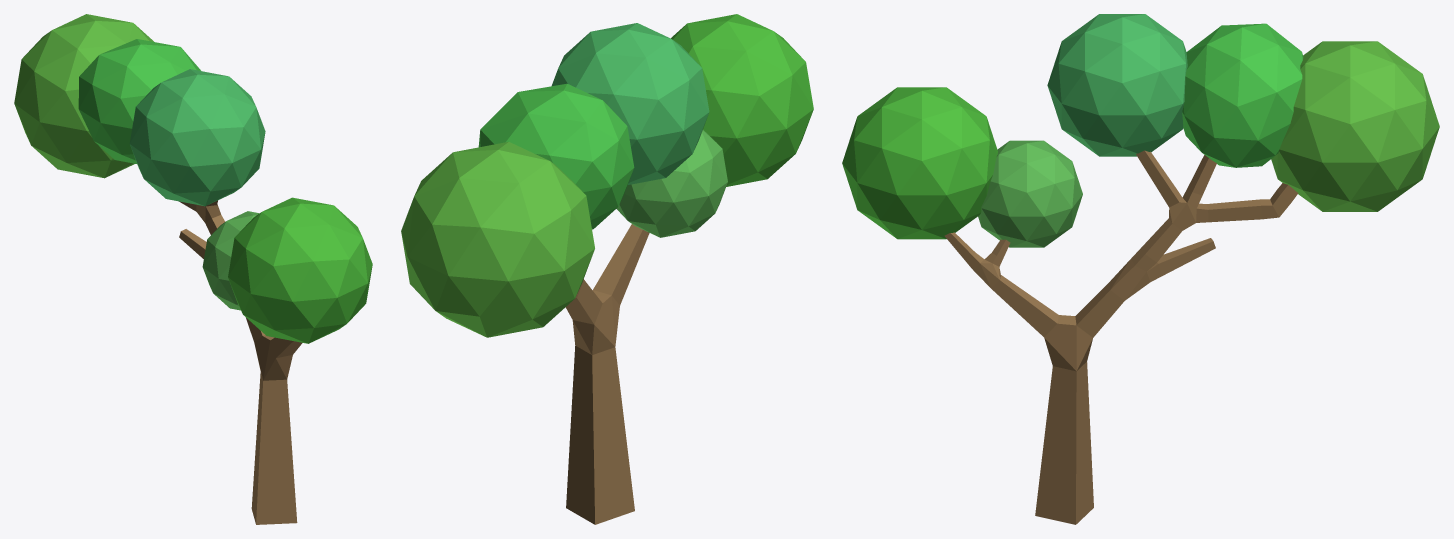
Rendered from derevo3.fbx.
3 views of the same model, side by side, from view 1: azimuth 30°, elevation 25°; view 2: azimuth 150°, elevation 25°; view 3: azimuth 270°, elevation 25° (orthographic). The views are drawn at different scales.
Parts seen in each view (by area): view 1: Icosphere.004, Icosphere.001, Icosphere.002, Cube, Icosphere, Icosphere.003; view 2: Icosphere.002, Icosphere.004, Icosphere.001, Cube, Icosphere, Icosphere.003; view 3: Icosphere.002, Cube, Icosphere.004, Icosphere.001, Icosphere, Icosphere.003.
Boxes of the visible parts, left/top/right/bottom form: Icosphere.004: left=228, top=197, right=372, bottom=343; Icosphere.001: left=129, top=69, right=265, bottom=206; Icosphere.002: left=14, top=14, right=153, bottom=178; Cube: left=179, top=200, right=302, bottom=524; Icosphere: left=78, top=39, right=200, bottom=163; Icosphere.003: left=202, top=211, right=258, bottom=310; Icosphere.002: left=401, top=141, right=594, bottom=337; Icosphere.004: left=671, top=14, right=813, bottom=186; Icosphere.001: left=551, top=23, right=709, bottom=184; Cube: left=565, top=224, right=649, bottom=524; Icosphere: left=478, top=83, right=634, bottom=229; Icosphere.003: left=616, top=130, right=727, bottom=237; Icosphere.002: left=1271, top=41, right=1439, bottom=211; Cube: left=944, top=150, right=1298, bottom=524; Icosphere.004: left=842, top=87, right=997, bottom=239; Icosphere.001: left=1047, top=14, right=1187, bottom=156; Icosphere: left=1182, top=23, right=1303, bottom=167; Icosphere.003: left=978, top=140, right=1082, bottom=247.
Size of the model in its own units: 252 by 755 by 872.
